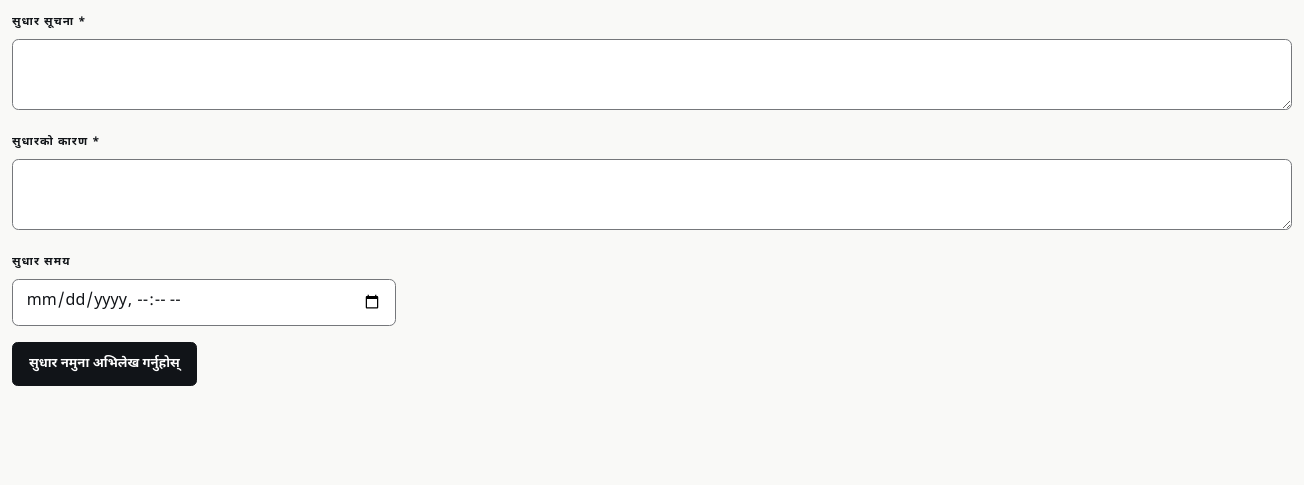
Test: review, corrections, and media prototypes › requires both a correction note and reason before showing a demo record
This screenshot has width=1304, height=485.
In the text box labelled "सुधार सूचना *": (652,74) 12,39 -> 1292,110, type "नमुना सुधार"
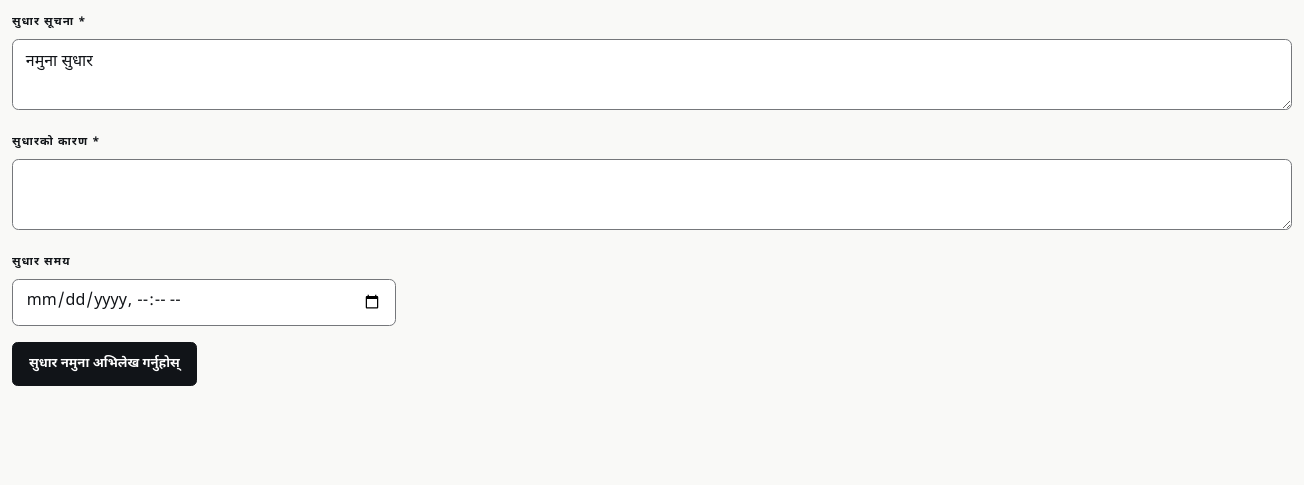
In the text box labelled "सुधारको कारण *": (652,194) 12,159 -> 1292,230, type "नमुना कारण"
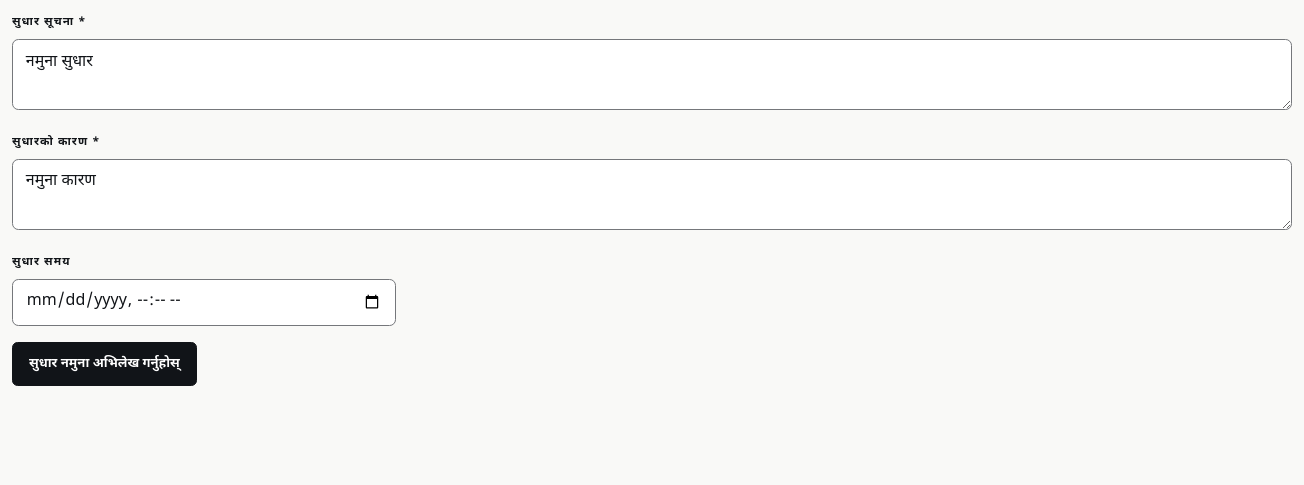
Click the button "सुधार नमुना अभिलेख गर्नुहोस्": (104,364) 12,342 -> 197,386
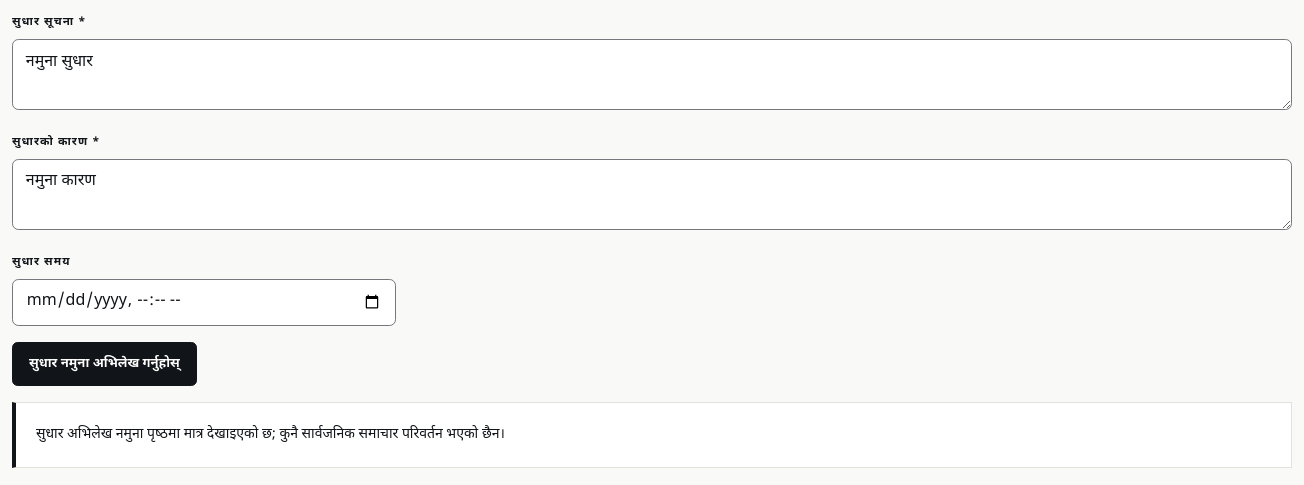
Result: the message shows "कुनै सार्वजनिक समाचार परिवर्तन भएको छैन" at 36,425 -> 505,444
